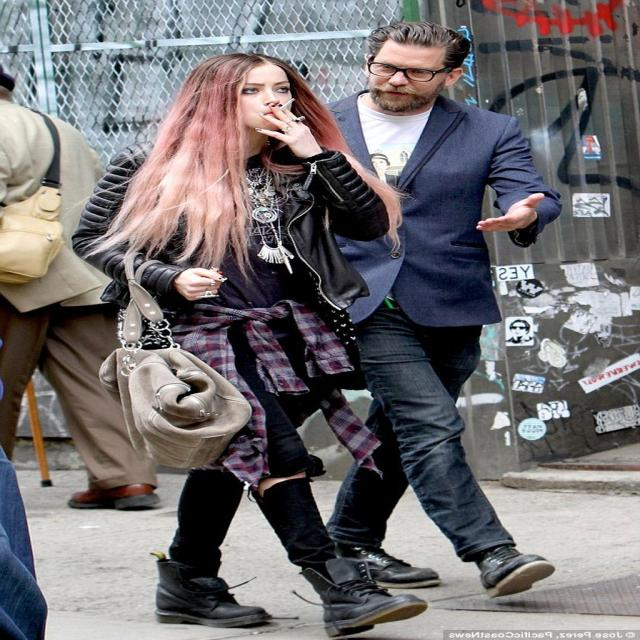smoking: (205, 51, 331, 158)
